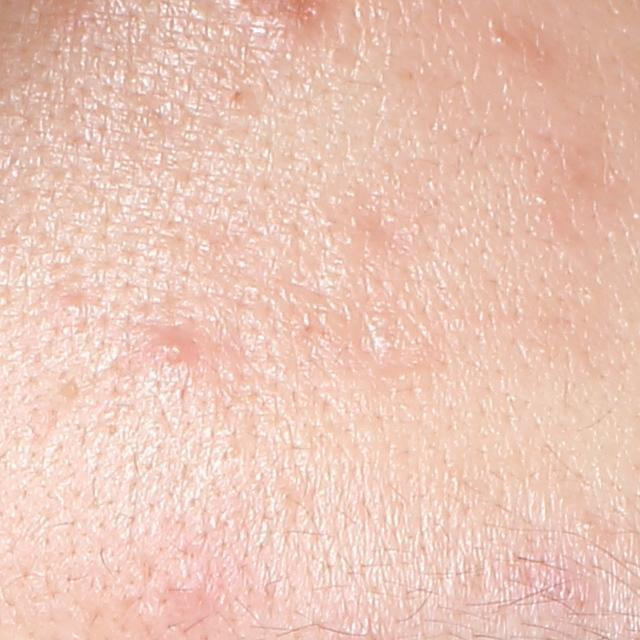papule: (149, 324, 208, 370)
